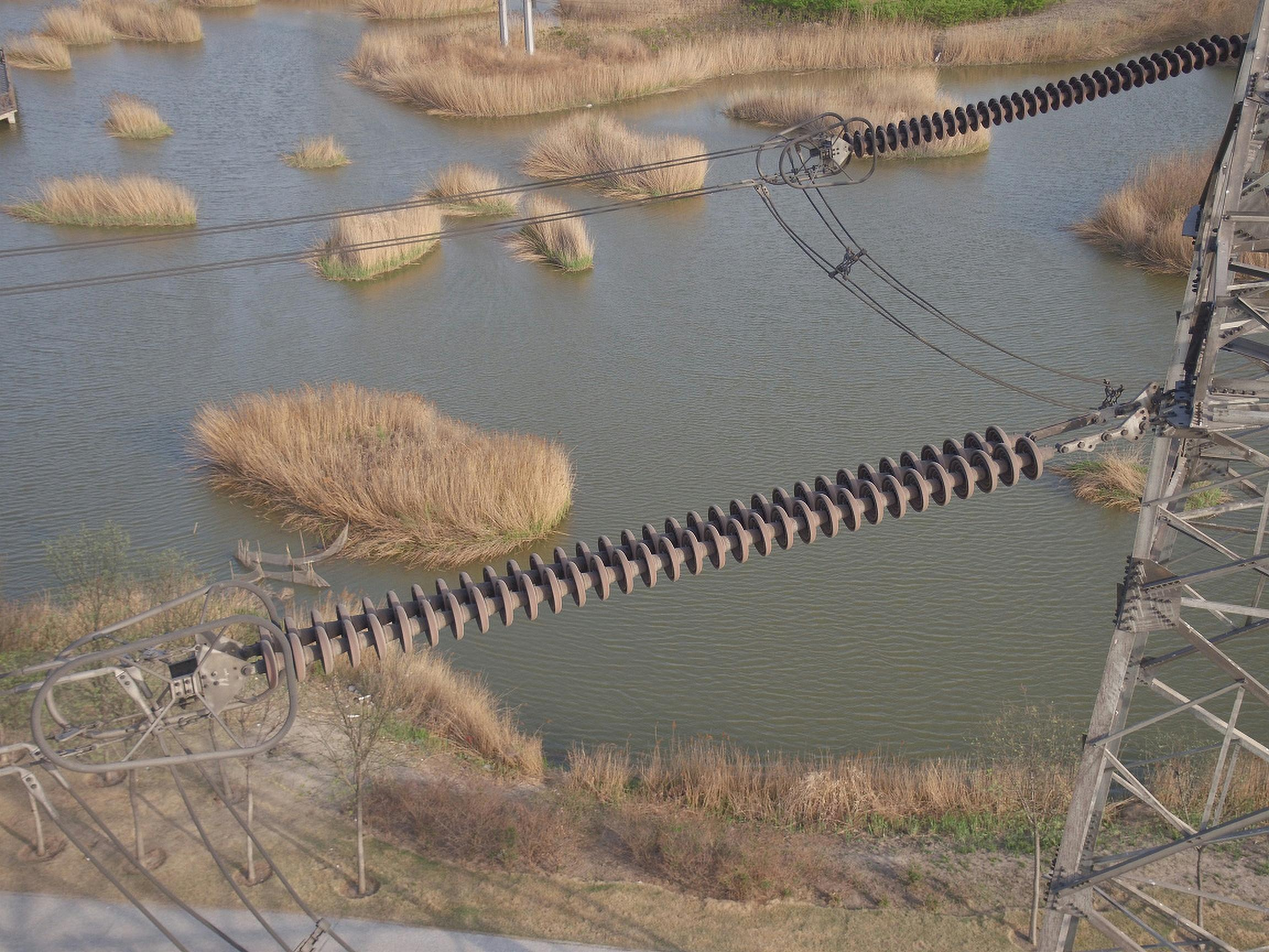insulator: (250, 418, 1050, 695), (839, 30, 1248, 161)
